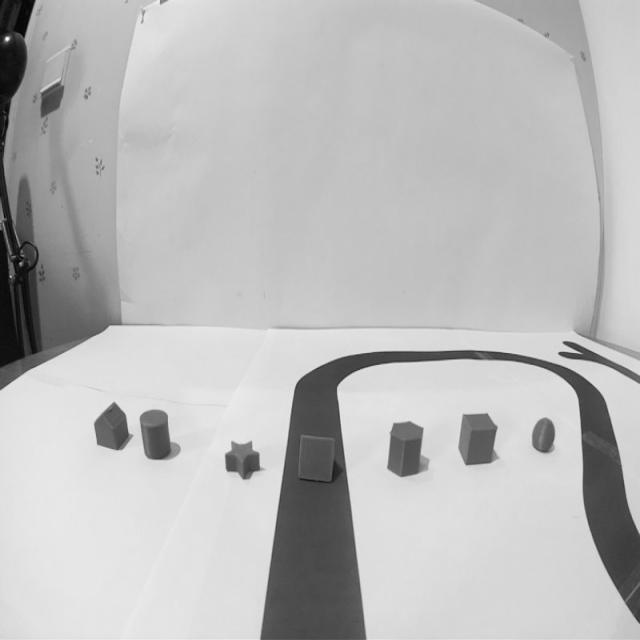ball: (526, 414, 558, 455)
cube: (456, 408, 498, 470)
cylinder: (138, 406, 174, 464)
hexagon: (386, 415, 425, 481)
home: (91, 398, 132, 454)
lineStraight: (250, 493, 375, 640)
star: (221, 436, 263, 482)
triangle: (294, 430, 342, 488)
